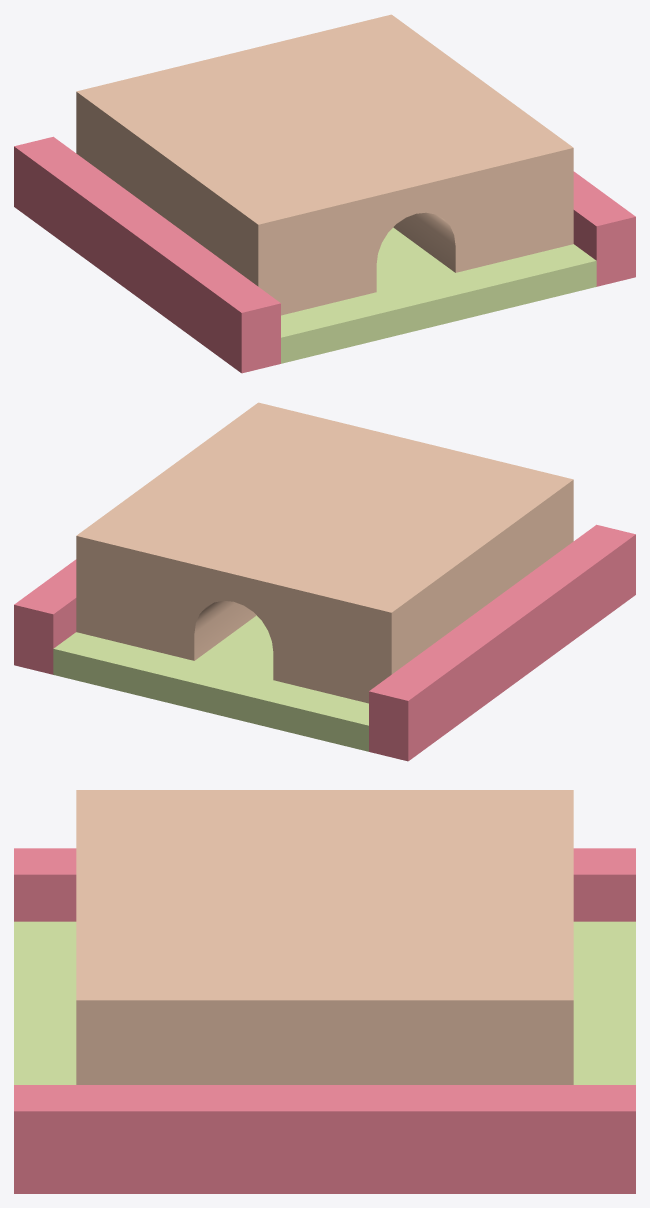
The model's file is tunnelNarrow.fbx.
The picture shows the model from 3 angles, top to bottom: view 1: azimuth 30°, elevation 25°; view 2: azimuth 150°, elevation 25°; view 3: azimuth 270°, elevation 25°; orthographic projection. The views are drawn at different scales.
Visible parts, largest first — view 1: tunnelNarrow; view 2: tunnelNarrow; view 3: tunnelNarrow.
Boxes of the visible parts, x1,y1,x2,y2 form: tunnelNarrow: (14,14,635,373); tunnelNarrow: (14,402,635,761); tunnelNarrow: (14,790,635,1193).
Bounding box in the file's own units: 99.99 × 29.66 × 99.99.
